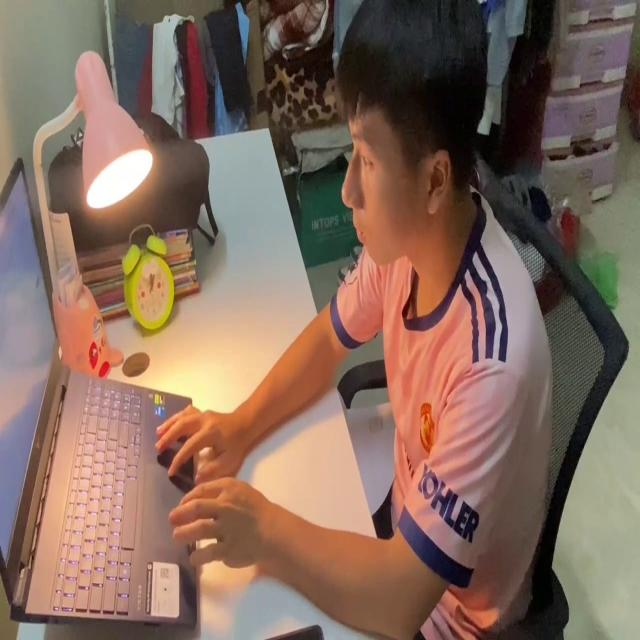book: (350, 391, 402, 523)
laptop: (1, 148, 203, 640)
student: (151, 0, 557, 640)
